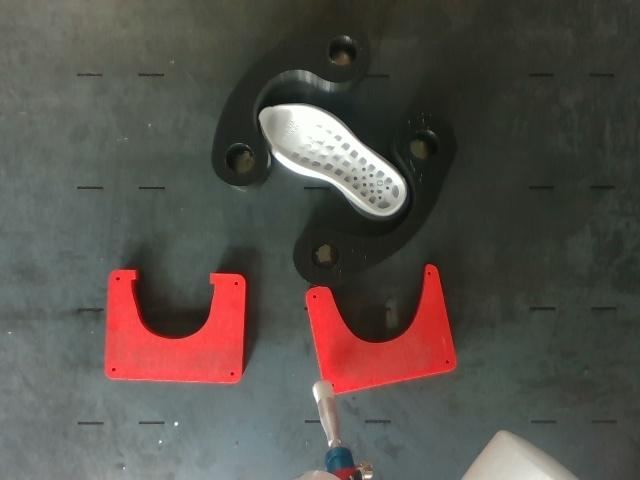shoes: (260, 106, 405, 213)
